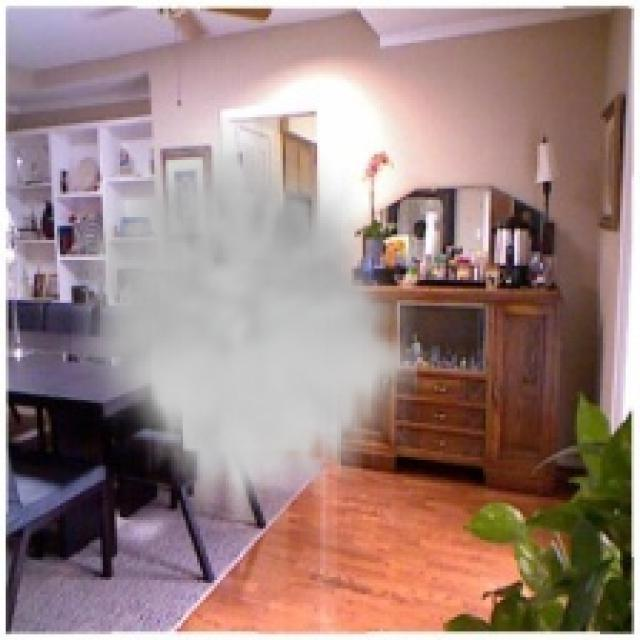Smoke: (72, 117, 417, 529)
